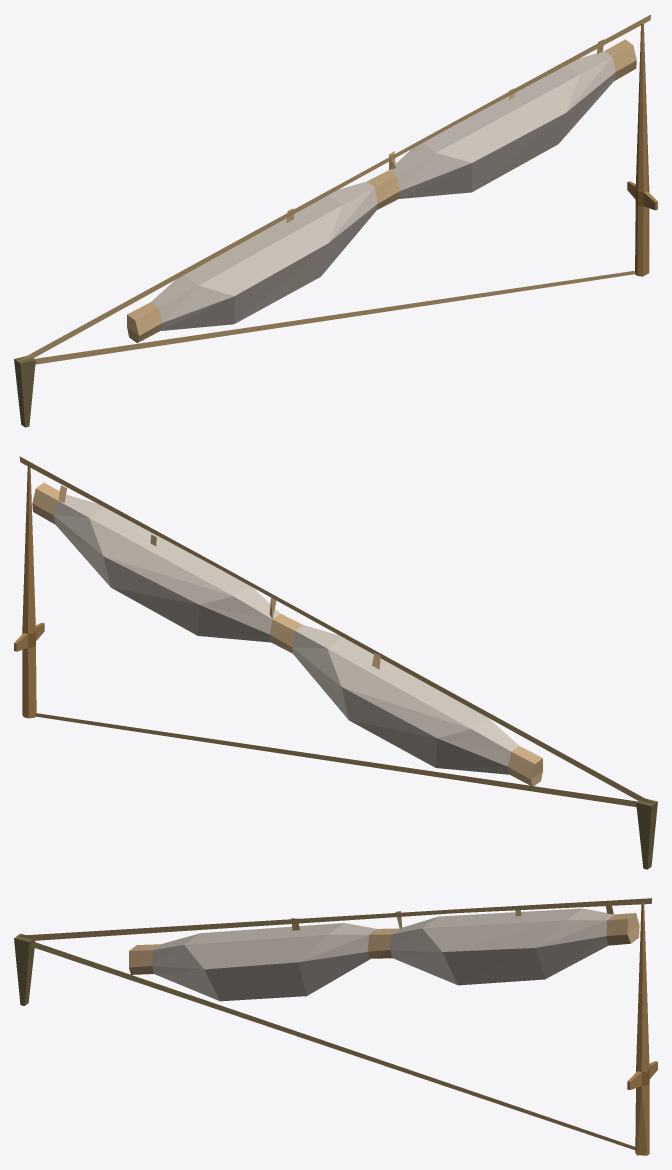
Rendered from obj_hoisted_sail_6_0.obj.
3 renders of one model, top to bottom at view 1: azimuth 30°, elevation 25°; view 2: azimuth 150°, elevation 25°; view 3: azimuth 330°, elevation 25°, orthographic.
Bounding box in the file's own units: 7.09 × 2.76 × 0.625.
